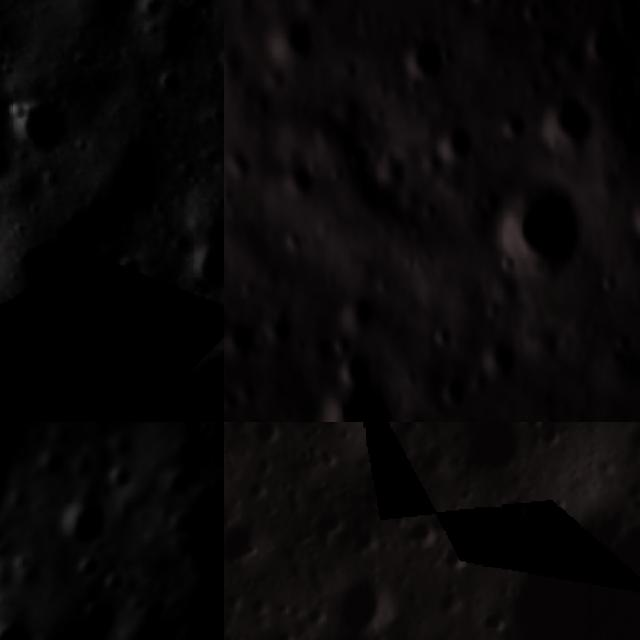crater: (474, 174, 585, 289), (0, 422, 72, 561), (321, 566, 401, 640), (456, 422, 535, 493), (310, 360, 394, 422), (96, 304, 168, 374), (536, 81, 606, 153), (7, 97, 82, 157), (53, 488, 119, 554), (61, 586, 132, 640), (393, 19, 447, 88), (262, 5, 322, 67), (572, 6, 627, 64), (425, 111, 485, 163), (182, 237, 224, 303), (224, 528, 272, 582), (336, 290, 392, 336), (255, 296, 298, 348), (0, 604, 61, 640), (334, 137, 386, 178), (481, 331, 526, 376), (64, 542, 106, 585), (432, 369, 470, 411), (494, 488, 538, 524), (89, 560, 128, 600), (279, 158, 312, 202), (156, 64, 187, 98), (627, 181, 640, 245), (234, 405, 272, 422)
